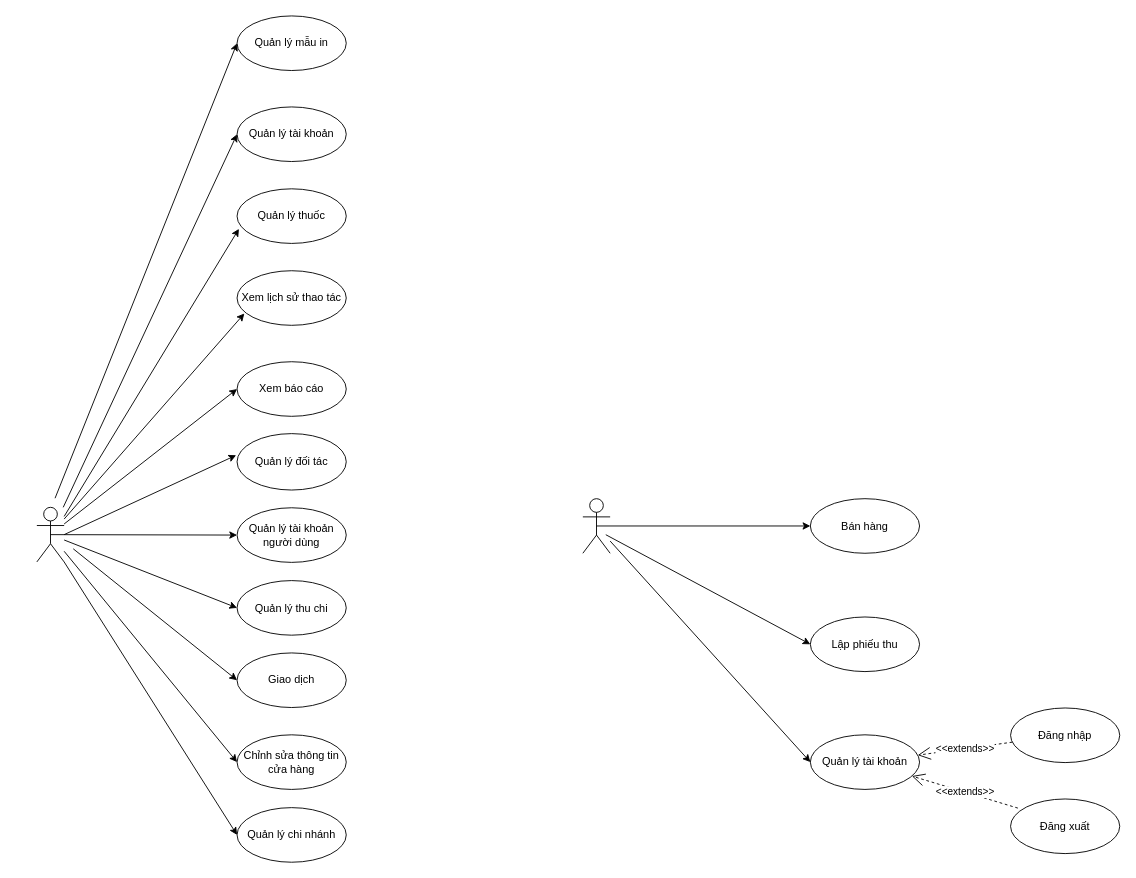
Image size: 1136x878. Some labels were removed from this diagram. Each missing label, with the box of its shape:
Người bán hàng: (582, 498, 610, 553)
Người quản lý: (36, 506, 64, 562)
